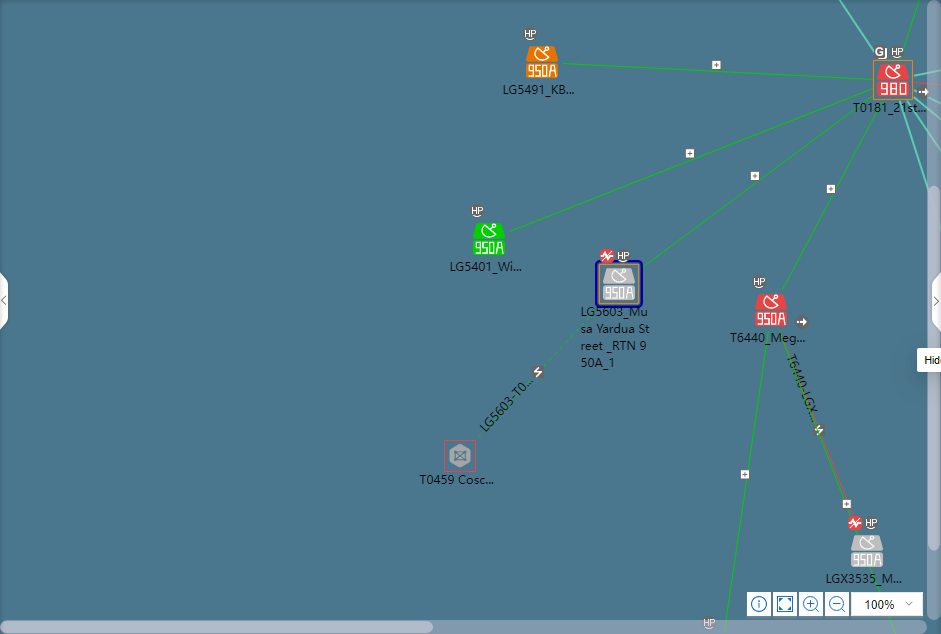Link_Blue: (897, 102, 931, 195), (838, 2, 878, 54), (913, 102, 940, 154), (915, 96, 940, 124), (915, 67, 940, 74)
Link_Green: (516, 91, 857, 226), (644, 96, 866, 264), (779, 102, 881, 289), (473, 308, 598, 439), (779, 332, 857, 530), (726, 332, 772, 596), (579, 61, 870, 83), (903, 2, 917, 41)
RTN_Gray: (850, 538, 884, 571), (603, 267, 635, 301)
RTN_Orange: (473, 220, 507, 260), (526, 44, 560, 76)
RTN_Red: (873, 61, 913, 101), (756, 296, 790, 330)
